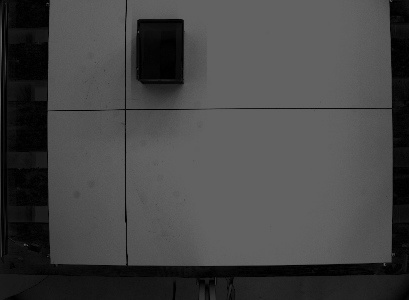klts: (133, 15, 189, 85)
